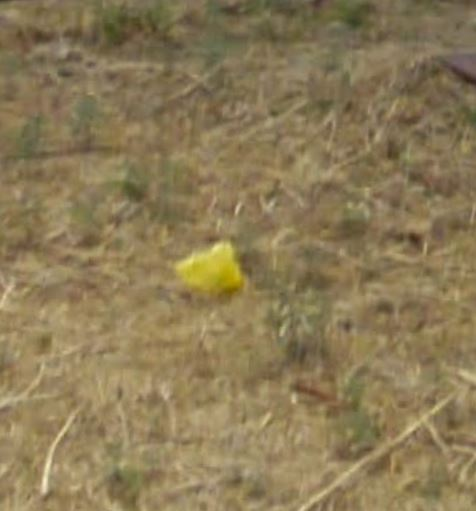trash: (160, 226, 254, 307)
